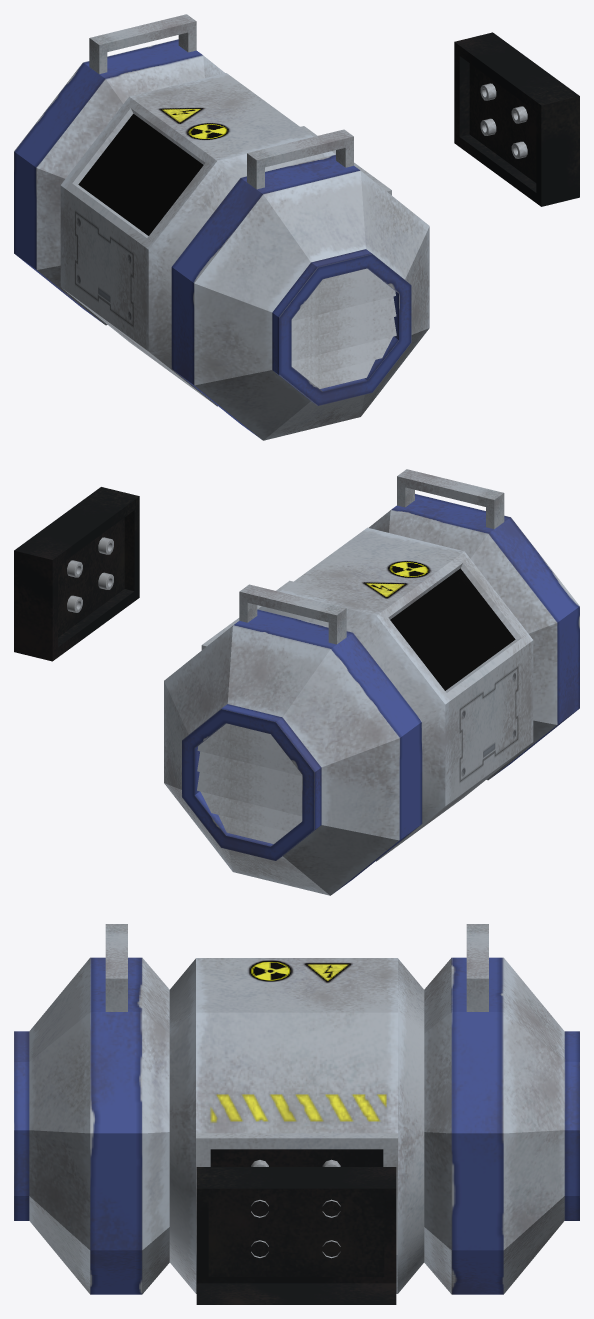
File: Generator.fbx
3 renders of one model, top to bottom at view 1: azimuth 30°, elevation 25°; view 2: azimuth 150°, elevation 25°; view 3: azimuth 270°, elevation 25°, orthographic. The views are drawn at different scales.
Parts seen in each view (by area): view 1: polySurface508; view 2: polySurface508; view 3: polySurface508.
Boxes of the visible parts, x1,y1,x2,y2 form: polySurface508: (14,14,579,440); polySurface508: (14,469,579,895); polySurface508: (14,924,579,1304).
Bounding box in the file's own units: 151 × 92.08 × 149.
